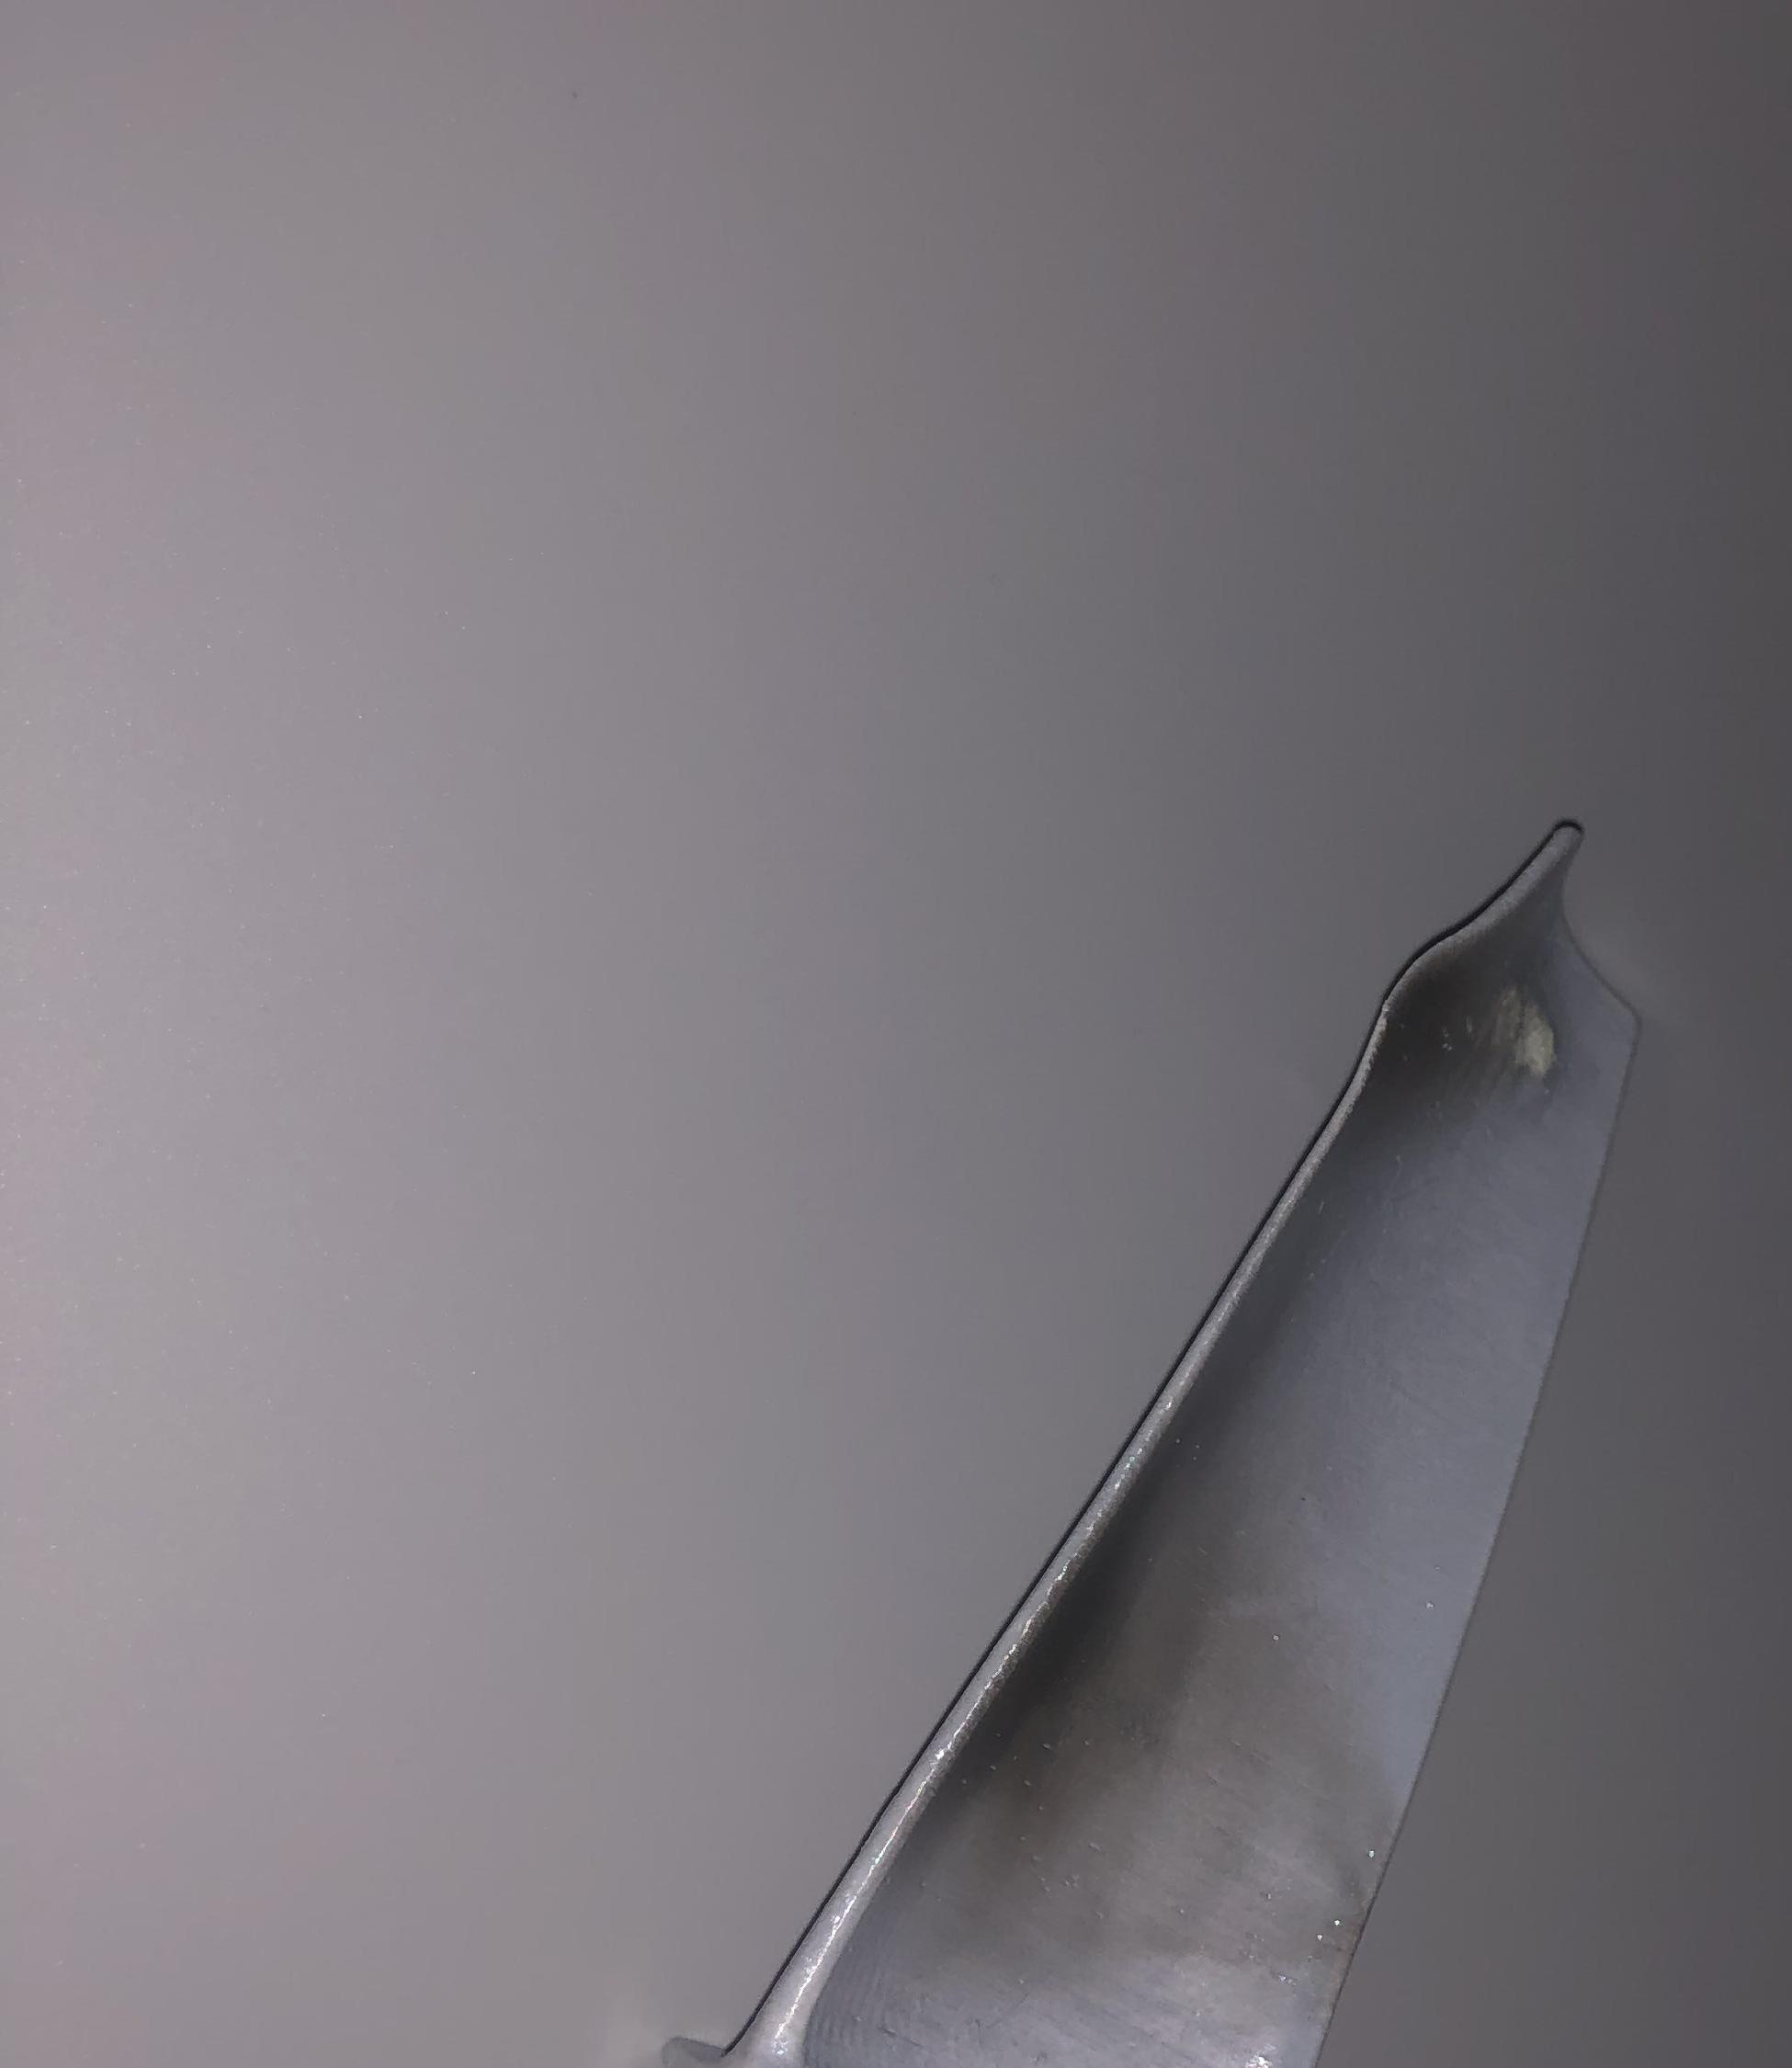ablation: (988, 1584, 1224, 1831), (1377, 934, 1572, 1113)
